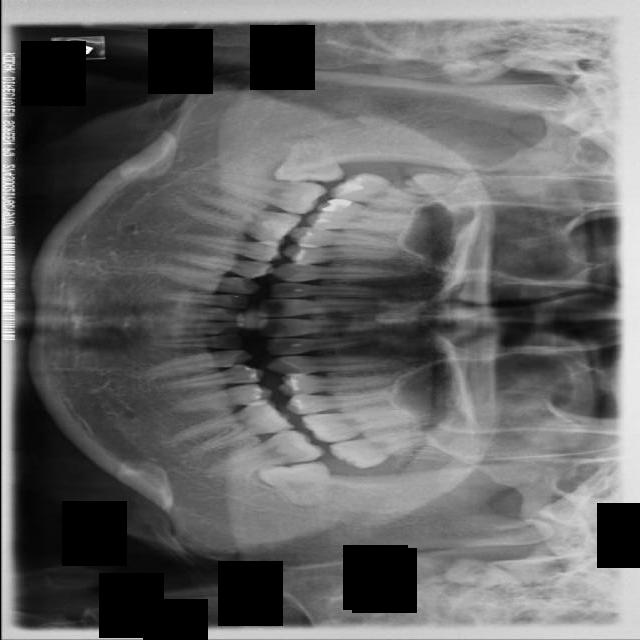3M ESPE Implant: (402, 173, 477, 195)
52: (327, 167, 393, 207), (242, 210, 301, 248), (303, 197, 364, 231), (276, 370, 329, 398), (279, 242, 334, 266), (224, 382, 272, 408), (287, 226, 342, 248), (284, 394, 342, 414), (269, 281, 319, 298), (267, 338, 313, 356), (221, 365, 264, 384)
73: (54, 596, 68, 602)
BioHorizons Implant: (327, 421, 435, 477)
Biomet 3i Implant: (256, 459, 333, 512)
Blue Sky Bio Implant: (199, 423, 326, 479)
Caries: (327, 166, 440, 216)
Implant: (213, 171, 329, 218)
Keystone Dental Implant: (270, 136, 344, 184)
